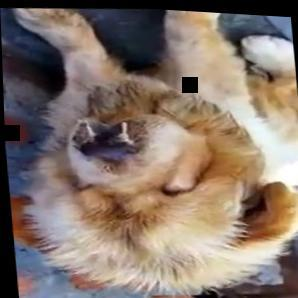nasal_discharge: (72, 115, 138, 163)
